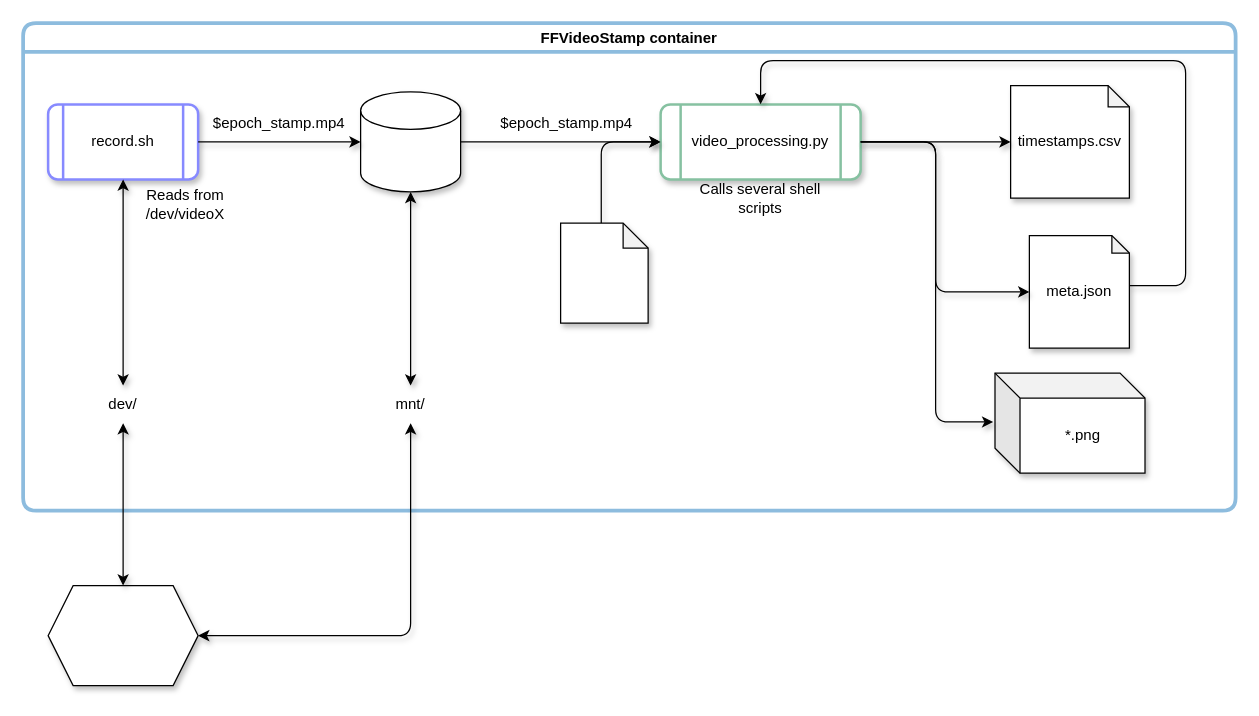
Image size: 1259x716. Some labels were removed from this diagram. The centre of each missing label's shape, as x and y in pixels:
disk: the point at 411,143
Host System: the point at 124,636
settings.toml: the point at 605,274
